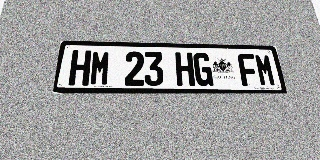2: (125, 51, 144, 86)
3: (144, 52, 163, 86)
F: (237, 53, 259, 86)
G: (193, 53, 213, 86)
H: (68, 50, 91, 86), (175, 52, 195, 86)
M: (89, 51, 111, 86), (254, 54, 277, 86)
